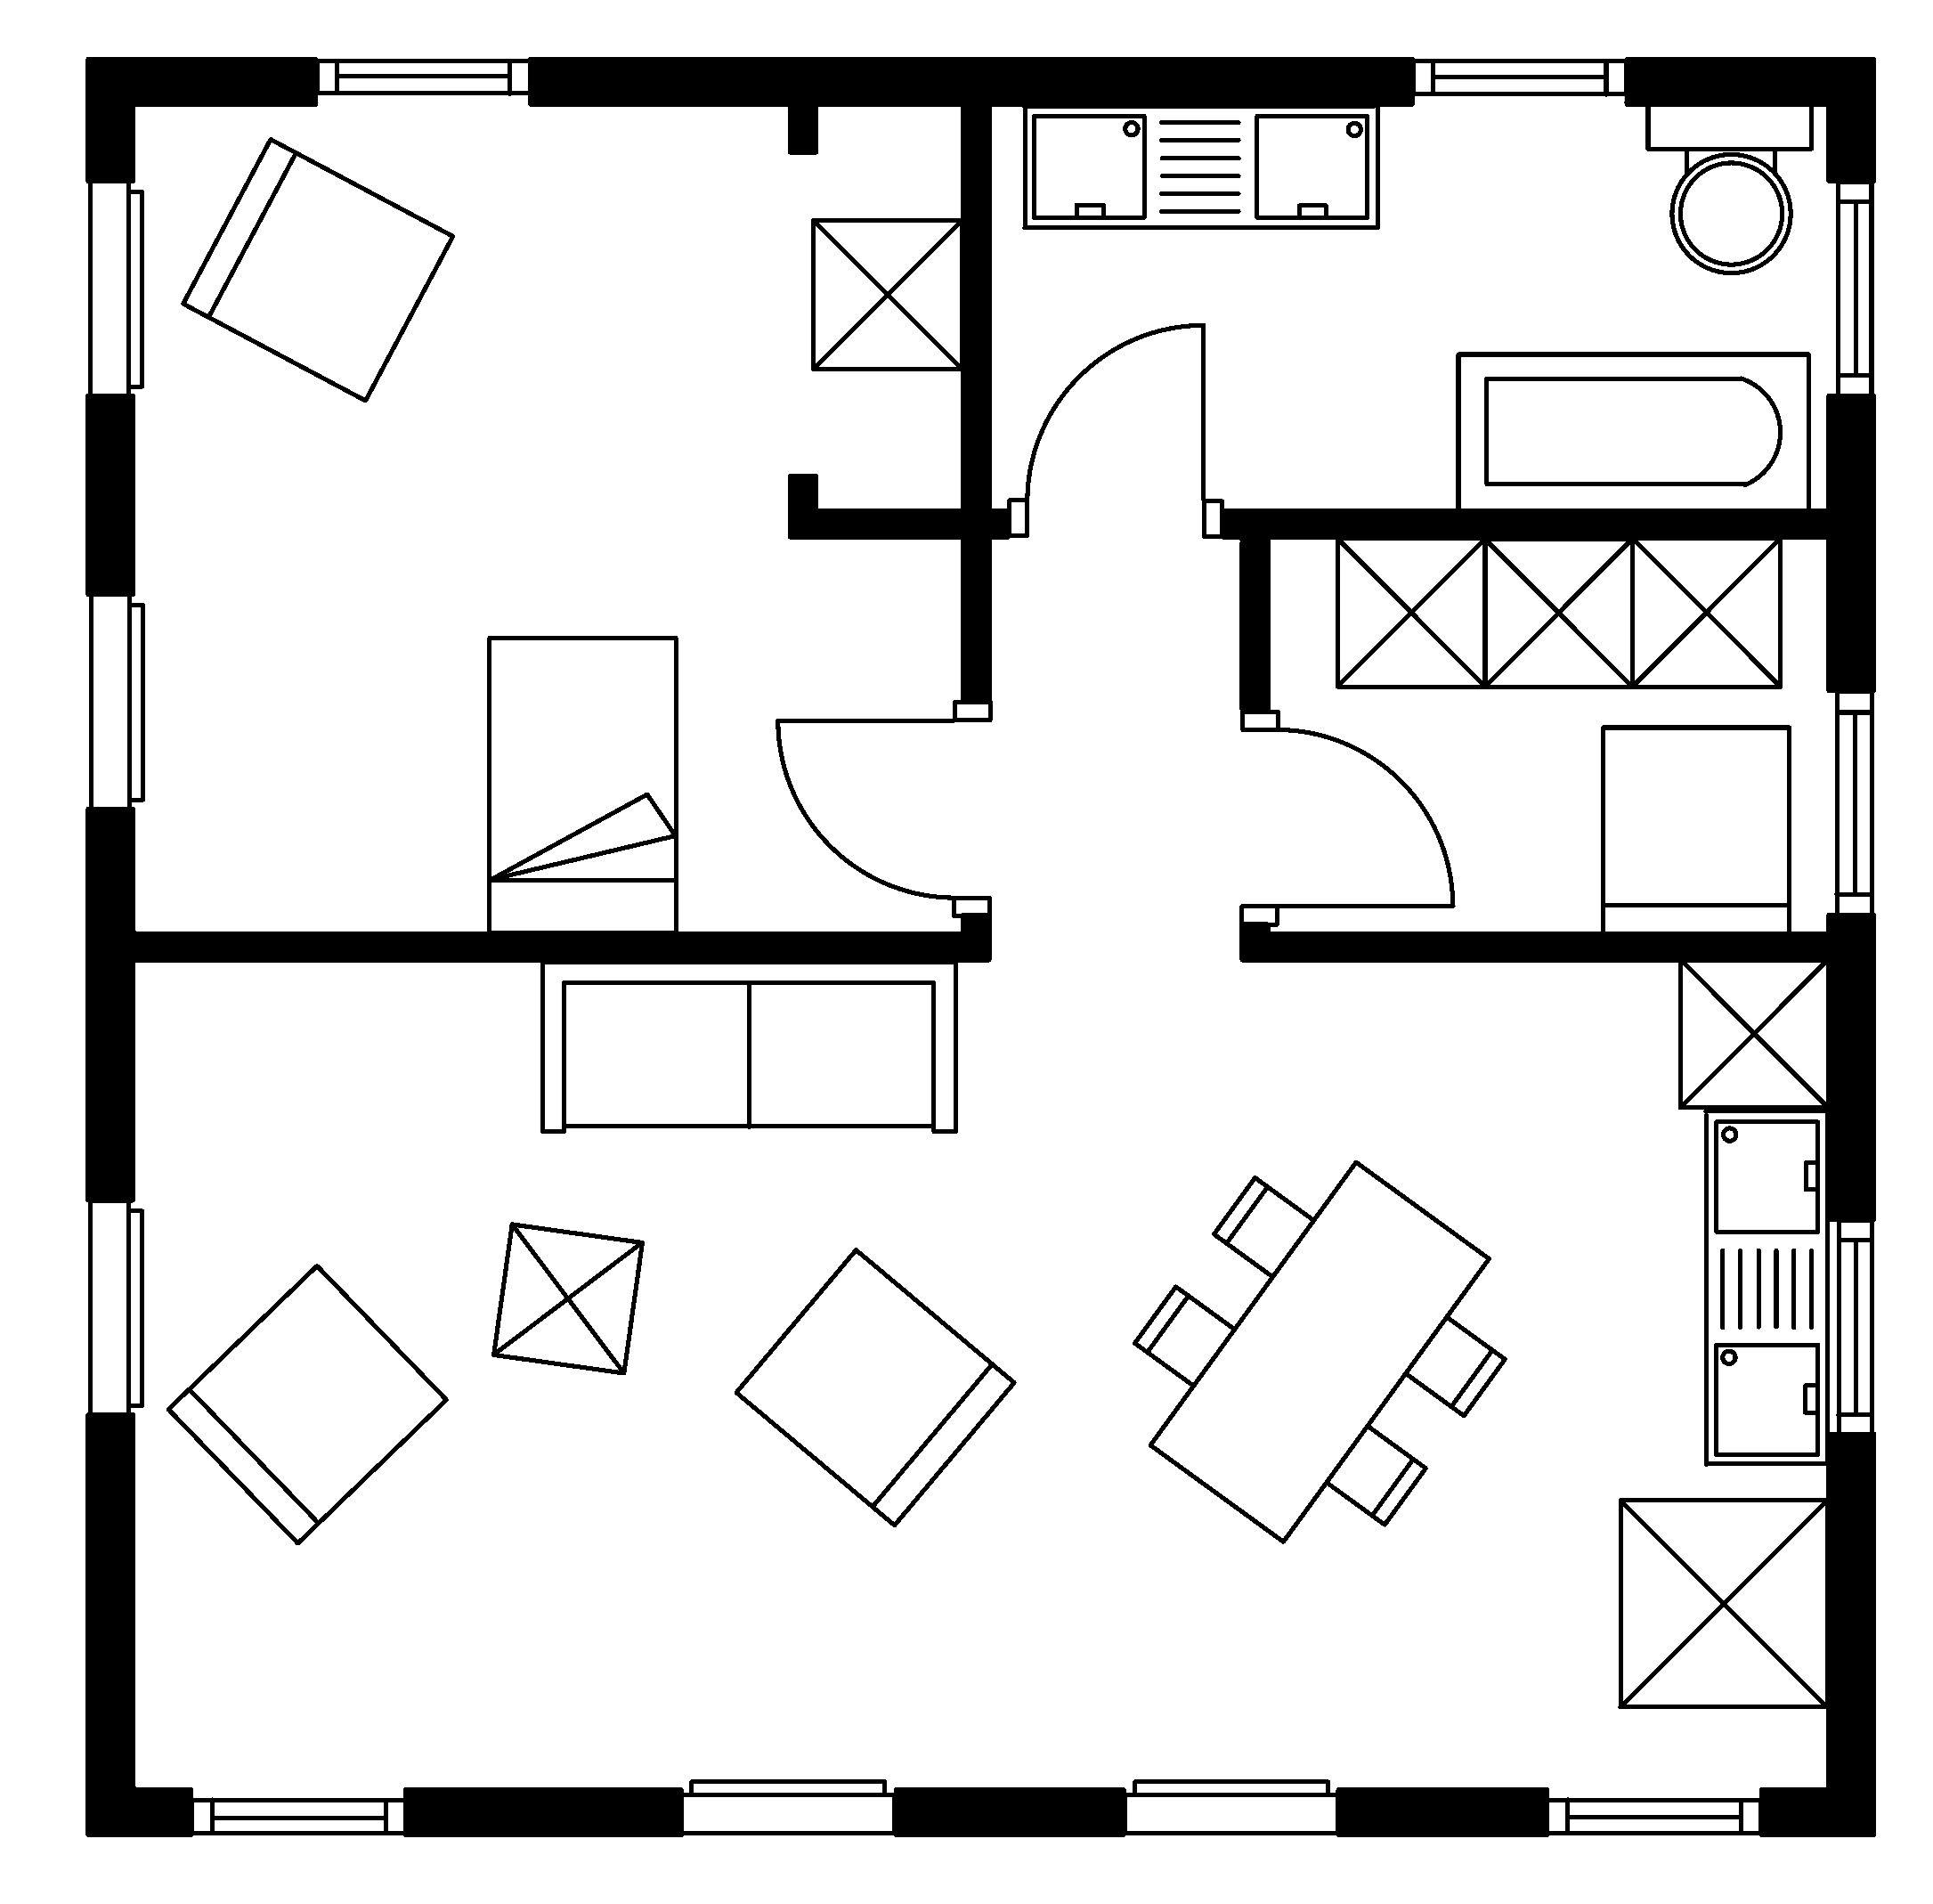bed: (485, 635, 680, 936)
coffee_table: (1616, 1496, 1830, 1710), (809, 216, 966, 371), (490, 1221, 645, 1376), (1480, 534, 1635, 689), (1628, 534, 1783, 689), (1333, 534, 1489, 689), (1675, 955, 1830, 1111)
dining_table: (1131, 1158, 1508, 1545)
large_sink: (1644, 101, 1814, 274)
large_sofa: (539, 959, 959, 1135)
small_sofa: (164, 1262, 448, 1547), (732, 1247, 1016, 1527), (180, 136, 455, 403), (1598, 724, 1792, 936)
tub: (1454, 350, 1811, 513)
twin_sink: (1020, 101, 1380, 230), (1701, 1107, 1830, 1468)
